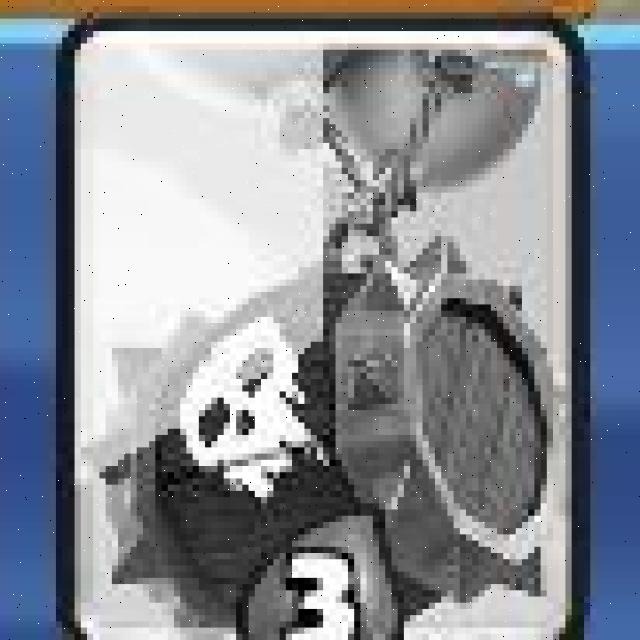Skeleton_Barrel: (55, 12, 590, 640)
